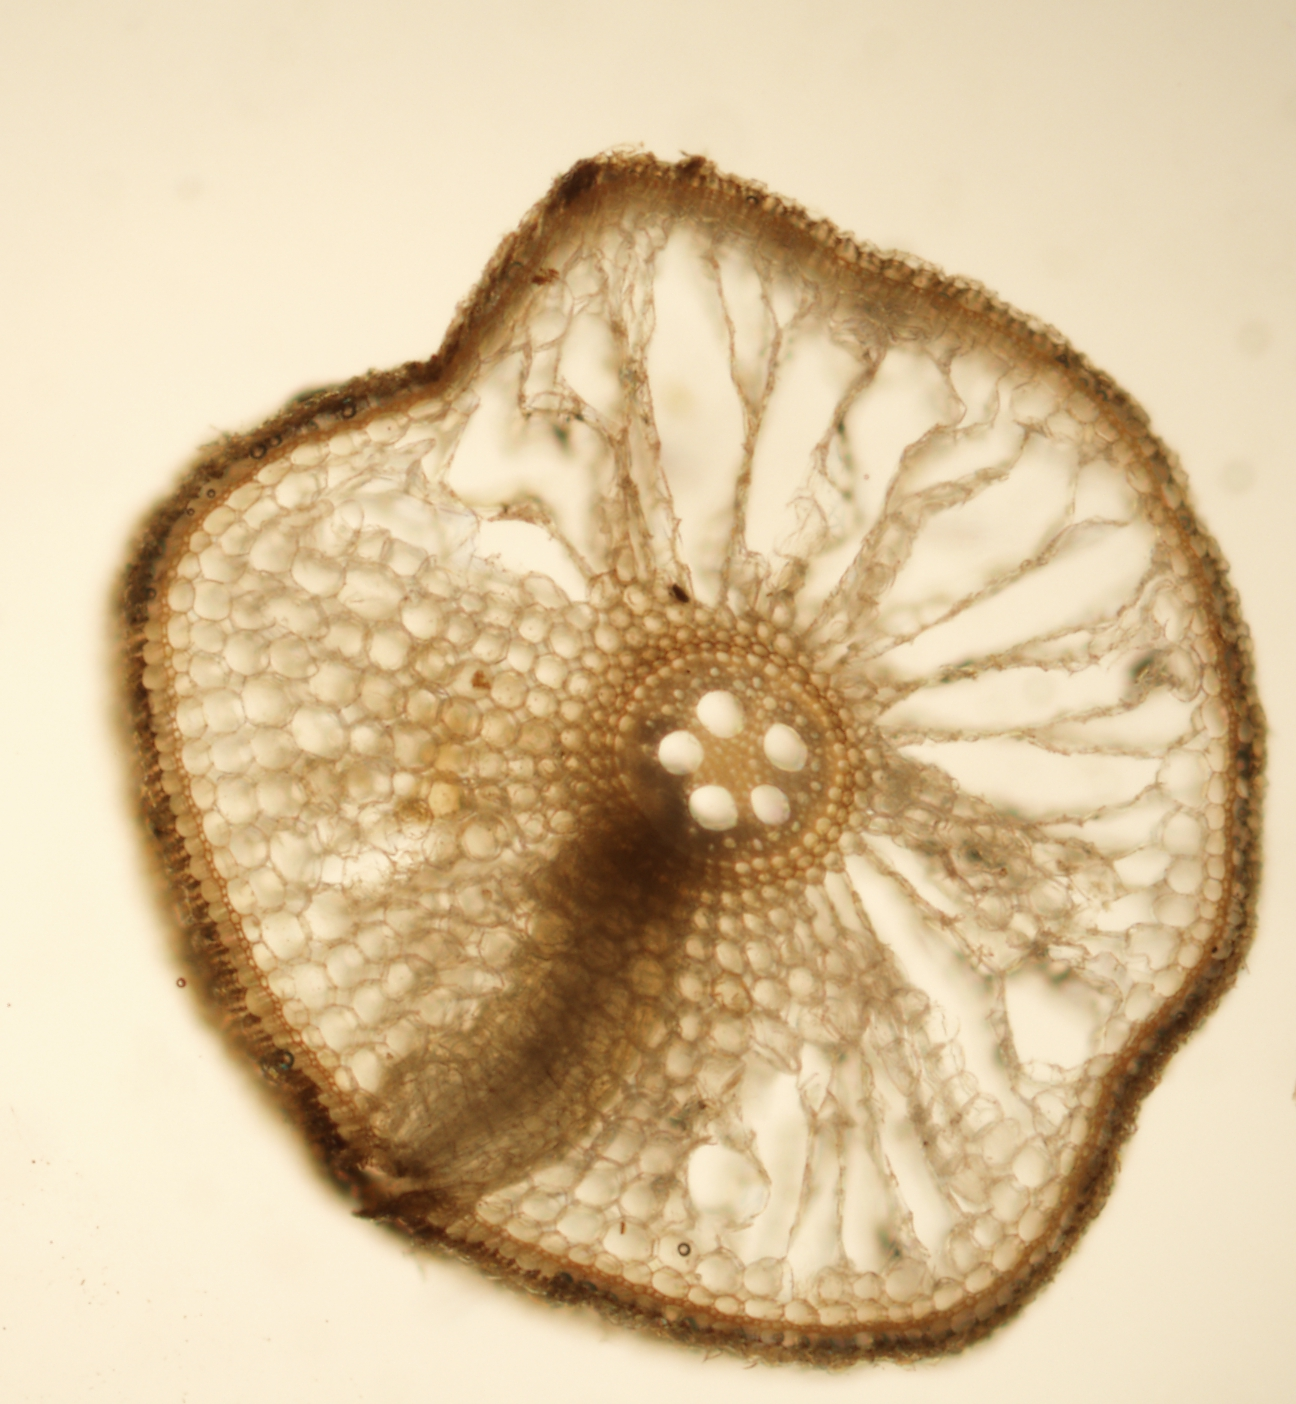lm: (697, 690, 746, 737), (688, 785, 738, 830), (763, 723, 808, 772), (658, 730, 704, 775), (749, 784, 791, 826)
